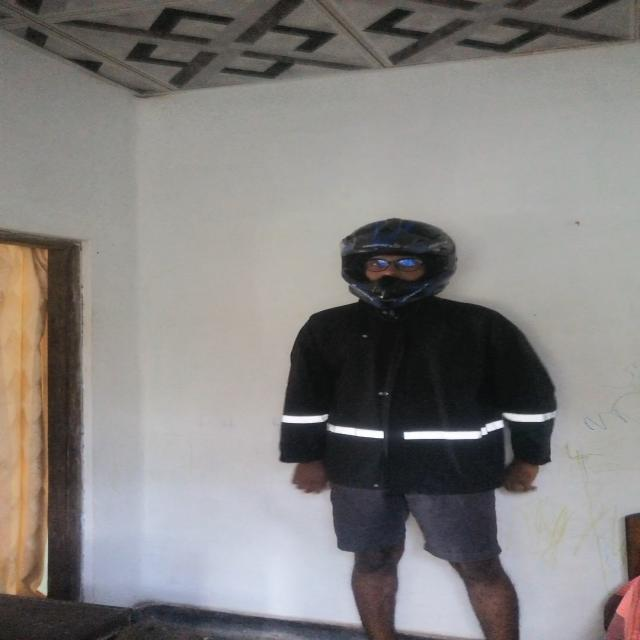Helmet_Wearer: (311, 216, 470, 322)
Jacket_Wearer: (277, 294, 554, 523)
Person: (273, 215, 557, 640)
